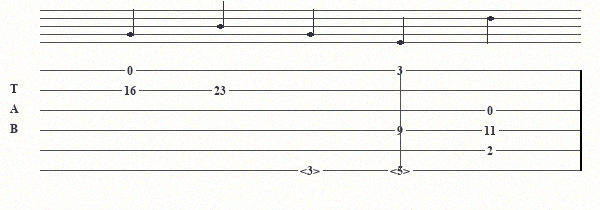0: (127, 64, 137, 77), (487, 104, 497, 117)
11: (484, 124, 500, 137)
16: (124, 84, 140, 97)
2: (487, 144, 497, 157)
23: (214, 84, 230, 97)
3: (397, 64, 407, 77)
9: (397, 124, 407, 137)
harmonic: (300, 164, 324, 177), (390, 164, 414, 177)
